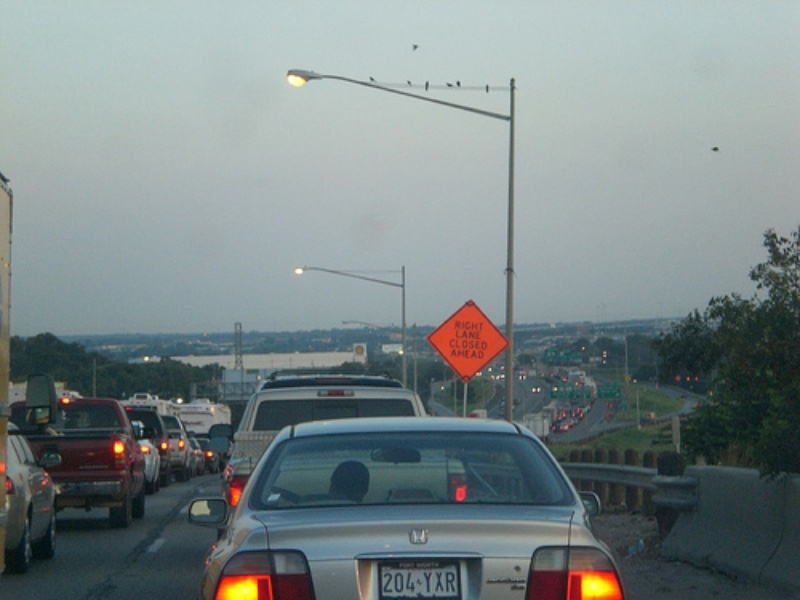car: (189, 418, 626, 600), (227, 388, 469, 506), (10, 397, 145, 527), (8, 421, 56, 568), (124, 406, 170, 486), (131, 419, 159, 491), (195, 437, 218, 472), (169, 428, 187, 471)
plate: (378, 558, 460, 600)
